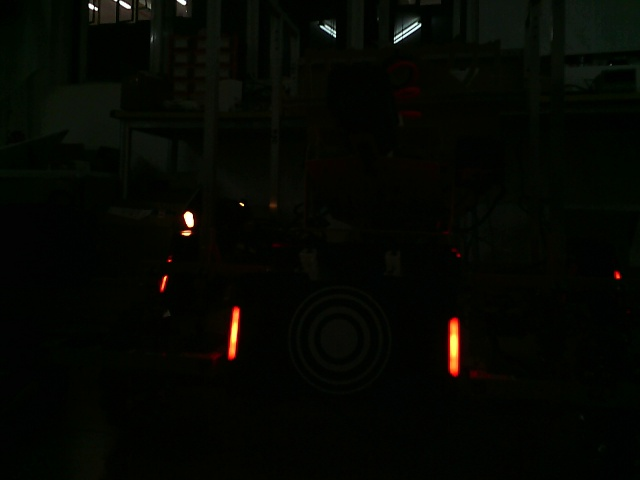lamp: (441, 313, 465, 380), (222, 303, 244, 363)
